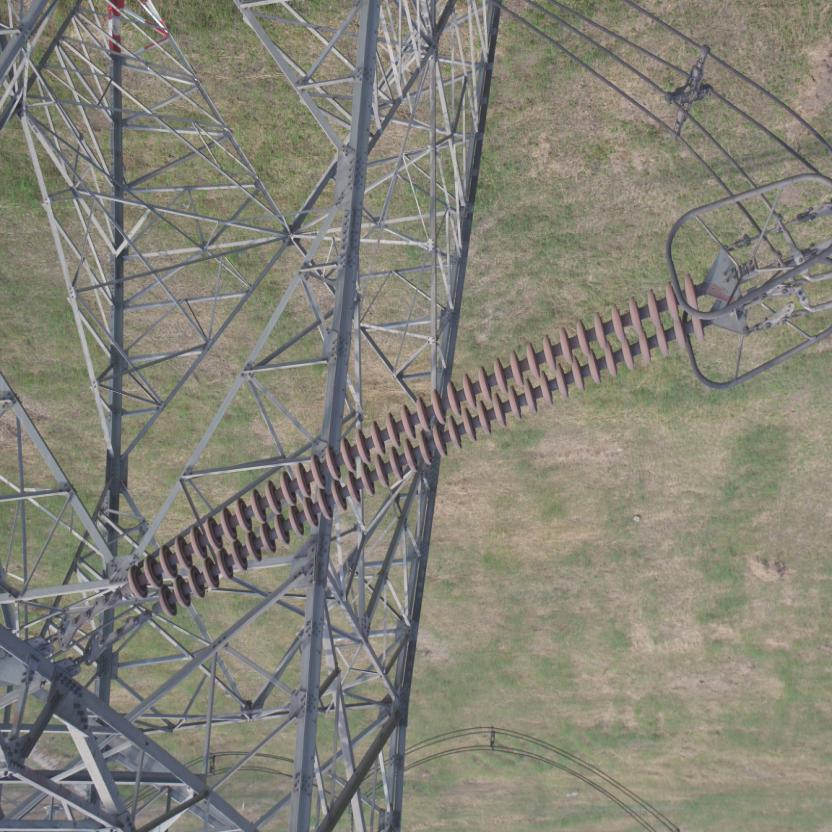insulator: (124, 270, 710, 624)
